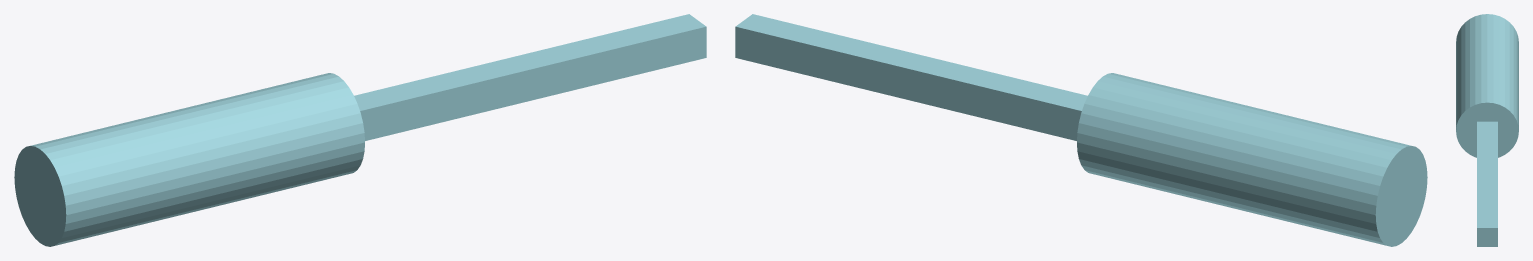
File: primitive_cylindrical_screwdriver.obj
3 renders of one model, left to right at view 1: azimuth 30°, elevation 25°; view 2: azimuth 150°, elevation 25°; view 3: azimuth 270°, elevation 25°, orthographic. The views are drawn at different scales.
Bounding box in the file's own units: 0.22 × 0.03 × 0.03.
1 material, 1 textured.
